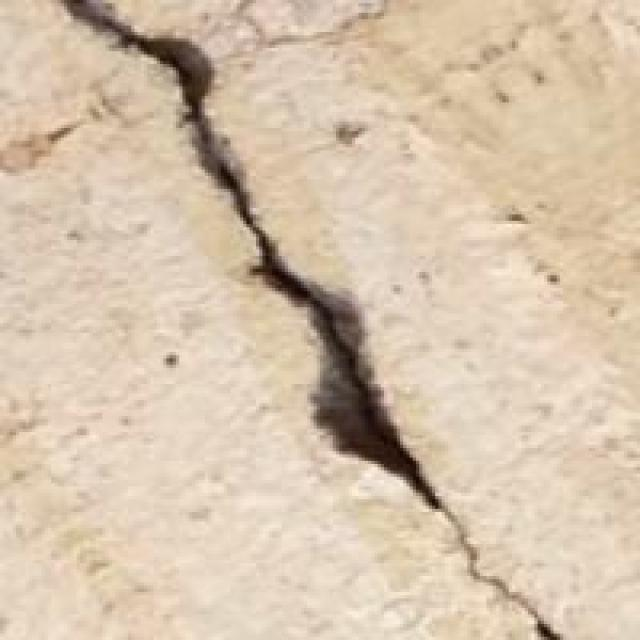Crack: (61, 0, 506, 589)
